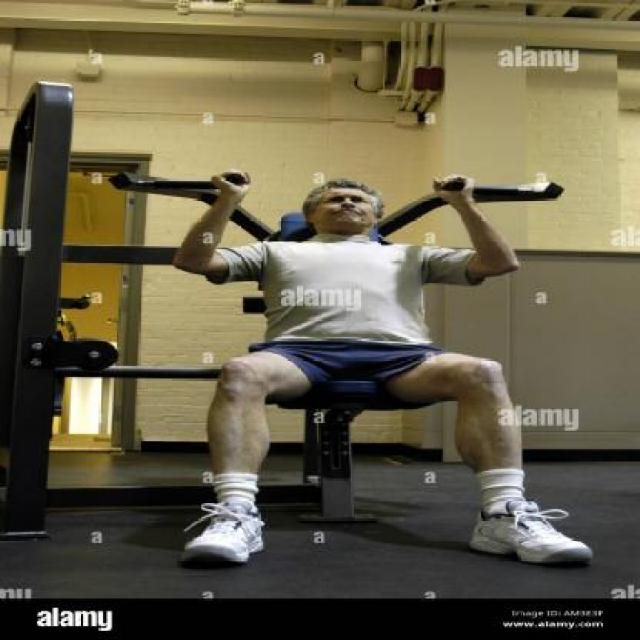shoulder press machine: (14, 83, 569, 519)
